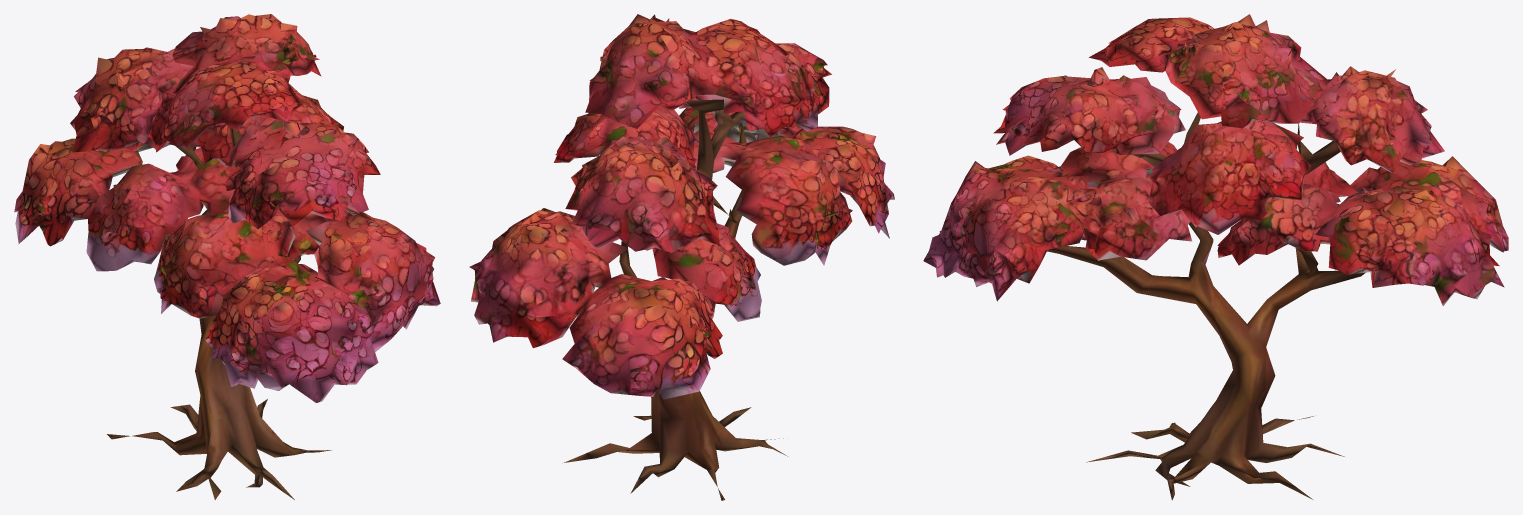
File: garden-tree-lod-BBTFbNAC.glb
The picture shows the model from 3 angles, left to right: view 1: azimuth 30°, elevation 25°; view 2: azimuth 150°, elevation 25°; view 3: azimuth 270°, elevation 25°; orthographic projection. The views are drawn at different scales.
Visible parts, largest first — view 1: tripo_node_8c94464d-5772-4ce6-a348-80ca050263d6; view 2: tripo_node_8c94464d-5772-4ce6-a348-80ca050263d6; view 3: tripo_node_8c94464d-5772-4ce6-a348-80ca050263d6.
Part boxes in pixels (bbox=[...]): tripo_node_8c94464d-5772-4ce6-a348-80ca050263d6: bbox=[14, 14, 440, 499]; tripo_node_8c94464d-5772-4ce6-a348-80ca050263d6: bbox=[469, 14, 894, 500]; tripo_node_8c94464d-5772-4ce6-a348-80ca050263d6: bbox=[923, 14, 1508, 500].
Size of the model in its own units: 0.4877 by 0.8918 by 0.9907.
Materials: 1 (1 with a texture image).
